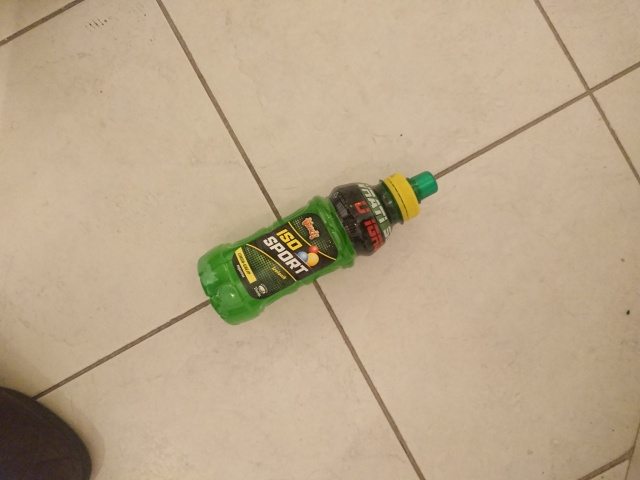Vindi Iso Sport Lemon-Grapefruit 500mL: (194, 169, 441, 328)
